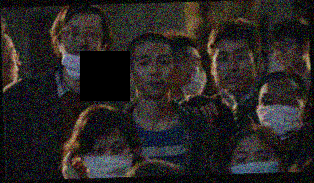mask_weared_incorrect: (60, 23, 105, 81)
with_mask: (256, 89, 303, 139), (80, 138, 134, 177), (228, 145, 279, 173), (174, 55, 208, 95)
without_mask: (212, 47, 257, 95), (133, 52, 175, 100), (271, 39, 302, 70), (2, 43, 22, 82)
